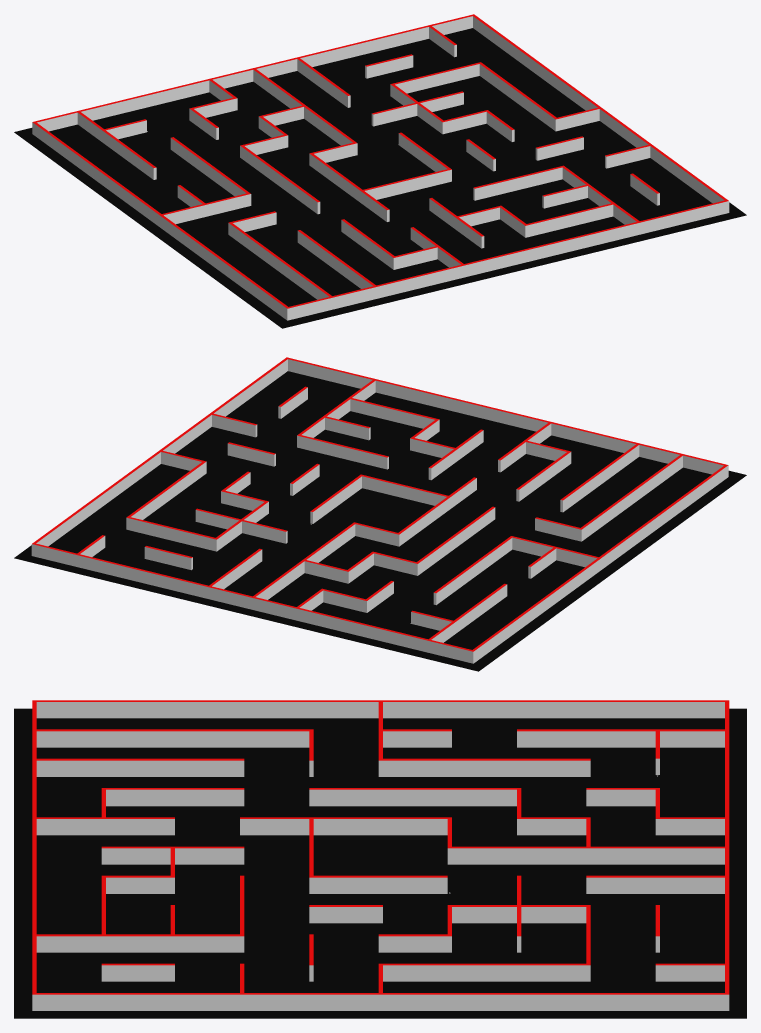
File: minus_visual_v2.dae
3 renders of one model, top to bottom at view 1: azimuth 30°, elevation 25°; view 2: azimuth 150°, elevation 25°; view 3: azimuth 270°, elevation 25°, orthographic. The views are drawn at different scales.
Visible parts, largest first — view 1: _Assemb_11_05_v3_Root_color-2, _Assemb_11_05_v3_Root_white, _Assemb_11_05_v3_Root_color; view 2: _Assemb_11_05_v3_Root_color-2, _Assemb_11_05_v3_Root_white, _Assemb_11_05_v3_Root_color; view 3: _Assemb_11_05_v3_Root_color-2, _Assemb_11_05_v3_Root_white, _Assemb_11_05_v3_Root_color.
Boxes of the visible parts, x1,y1,x2,y2 form: _Assemb_11_05_v3_Root_color-2: (14, 28, 746, 328); _Assemb_11_05_v3_Root_white: (32, 16, 729, 320); _Assemb_11_05_v3_Root_color: (32, 14, 728, 308); _Assemb_11_05_v3_Root_color-2: (14, 371, 746, 671); _Assemb_11_05_v3_Root_white: (31, 359, 728, 663); _Assemb_11_05_v3_Root_color: (32, 357, 728, 651); _Assemb_11_05_v3_Root_color-2: (14, 708, 746, 1018); _Assemb_11_05_v3_Root_white: (32, 702, 729, 1010); _Assemb_11_05_v3_Root_color: (32, 700, 729, 994).
Bounding box in the file's own units: 2.03 × 2.03 × 0.051.
